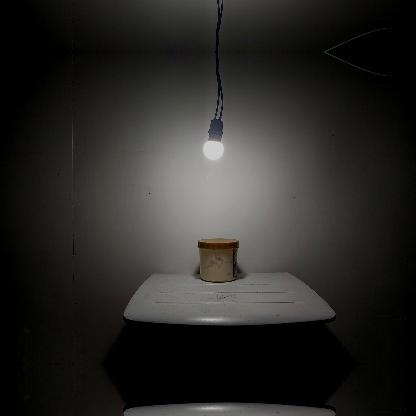Lady-s-Choice: (197, 238, 239, 282)
